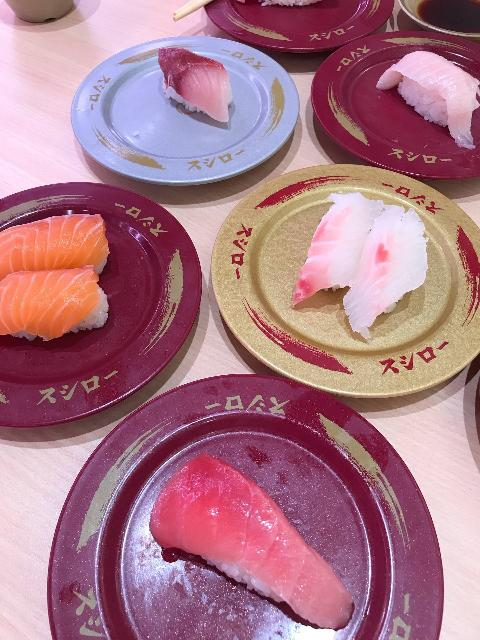jangold: (221, 188, 477, 398)
janred: (87, 396, 480, 640), (6, 172, 169, 437), (327, 60, 480, 175), (204, 0, 400, 73)
janwhite: (56, 56, 298, 172)
